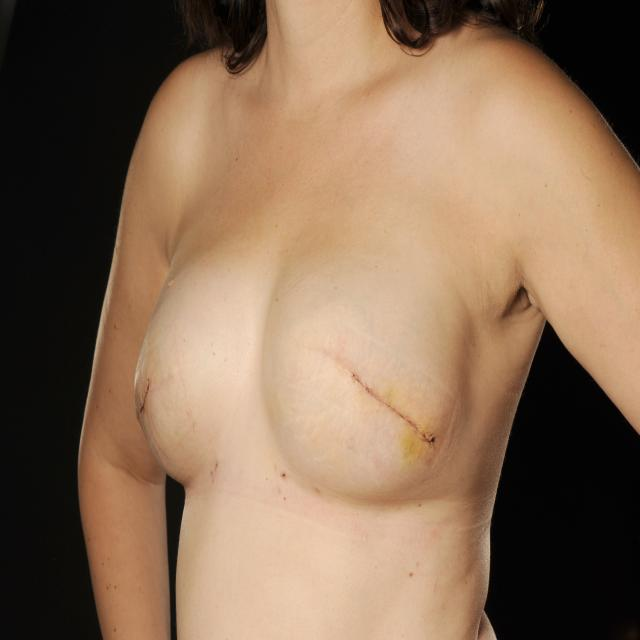wound: (349, 370, 437, 448)
